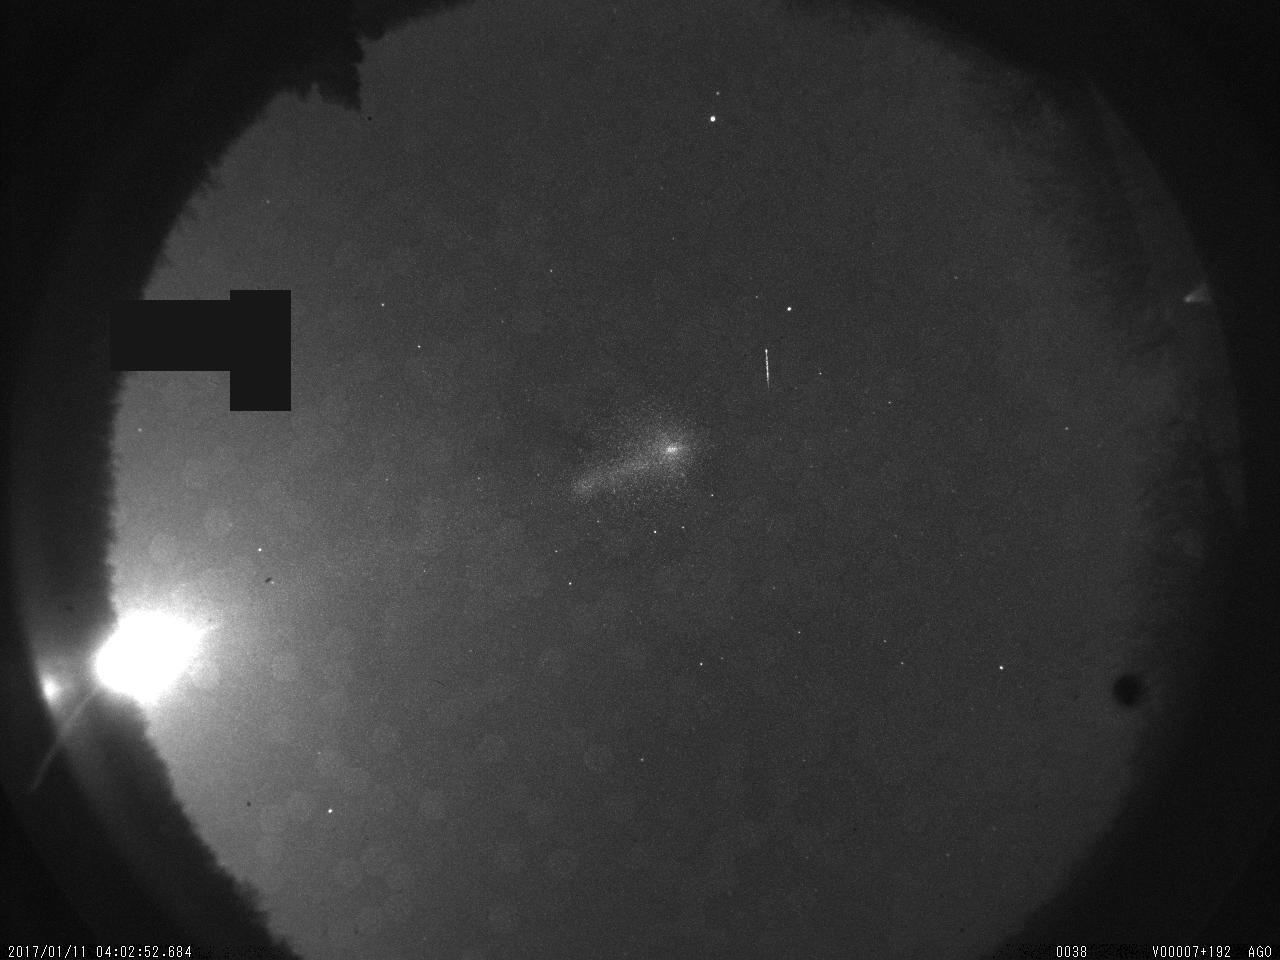meteor: (757, 340, 785, 392)
